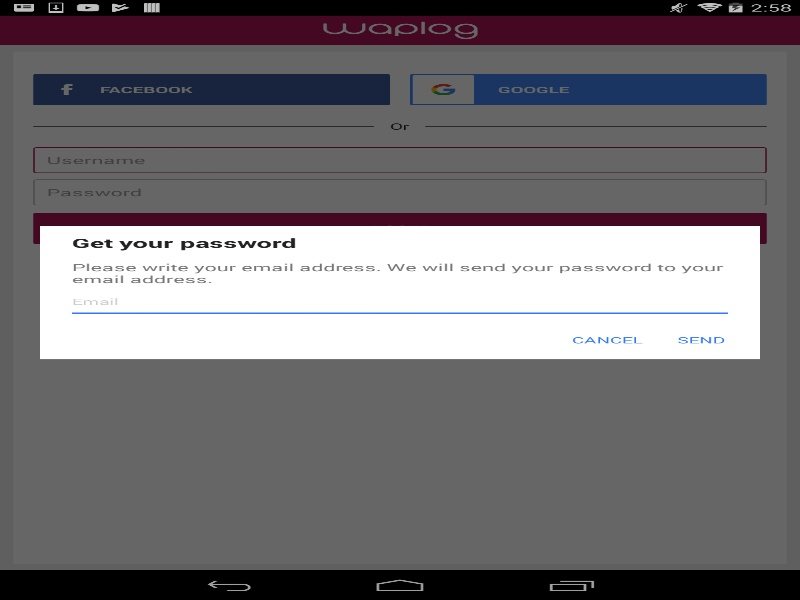Button: (556, 323, 658, 356), (658, 323, 744, 356)
Input: (72, 290, 728, 317)
